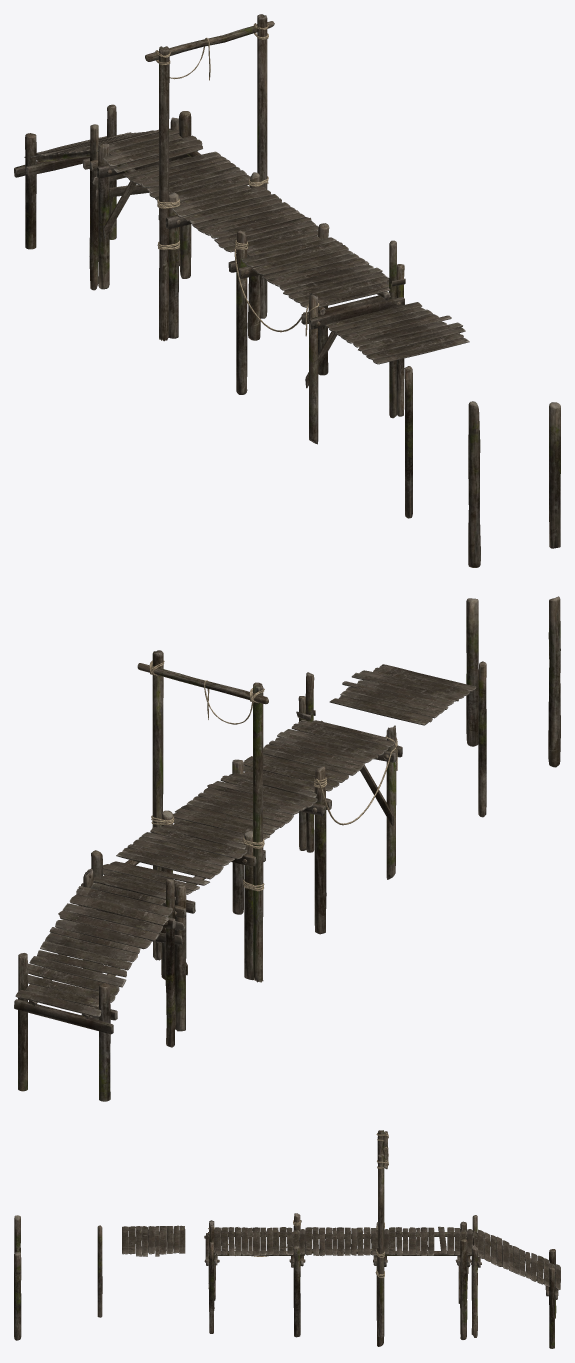
The model's file is modular_wooden_pier.glb.
The picture shows the model from 3 angles, top to bottom: view 1: azimuth 30°, elevation 25°; view 2: azimuth 150°, elevation 25°; view 3: azimuth 270°, elevation 25°; orthographic projection. The views are drawn at different scales.
Visible parts, largest first — view 1: modular_wooden_pier_planks, modular_wooden_pier_section_01, modular_wooden_pier_poles; view 2: modular_wooden_pier_planks, modular_wooden_pier_section_01, modular_wooden_pier_poles; view 3: modular_wooden_pier_planks, modular_wooden_pier_section_01, modular_wooden_pier_poles.
Part boxes in pixels (x1,y1,x2,y2): modular_wooden_pier_planks: [14, 23, 469, 388]; modular_wooden_pier_section_01: [25, 14, 404, 444]; modular_wooden_pier_poles: [404, 366, 560, 567]; modular_wooden_pier_planks: [14, 660, 476, 1034]; modular_wooden_pier_section_01: [18, 650, 396, 1101]; modular_wooden_pier_poles: [466, 596, 560, 817]; modular_wooden_pier_planks: [122, 1132, 560, 1303]; modular_wooden_pier_section_01: [204, 1130, 558, 1348]; modular_wooden_pier_poles: [14, 1215, 102, 1340].
Bounding box in the file's own units: 3.1 × 7.51 × 19.03.
2 materials, 2 textured.
